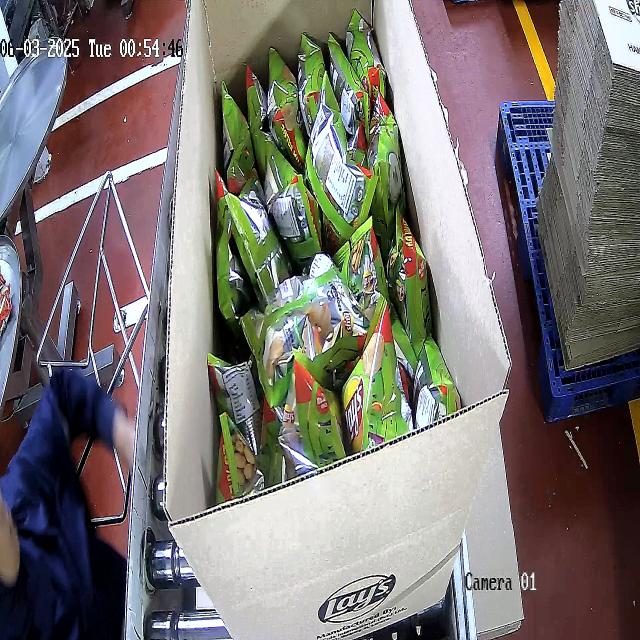YOGURT_HERB: (212, 10, 460, 493)
